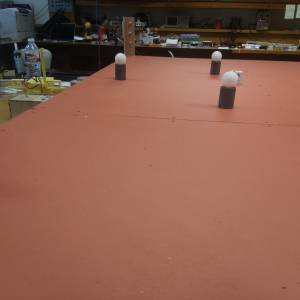corner: (122, 16, 134, 55)
obstacle: (219, 71, 237, 109), (115, 53, 126, 79), (209, 51, 221, 74)
